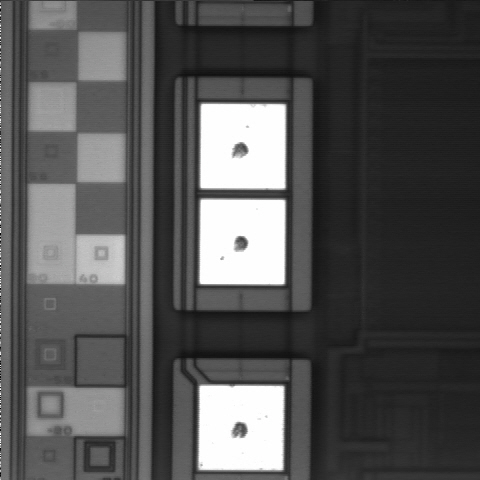pad: (200, 104, 285, 189), (200, 199, 285, 284), (199, 386, 284, 470)
